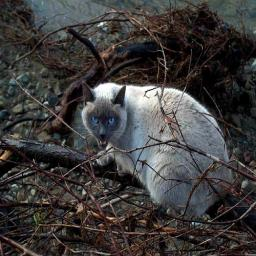catnose: (98, 128, 108, 138)
